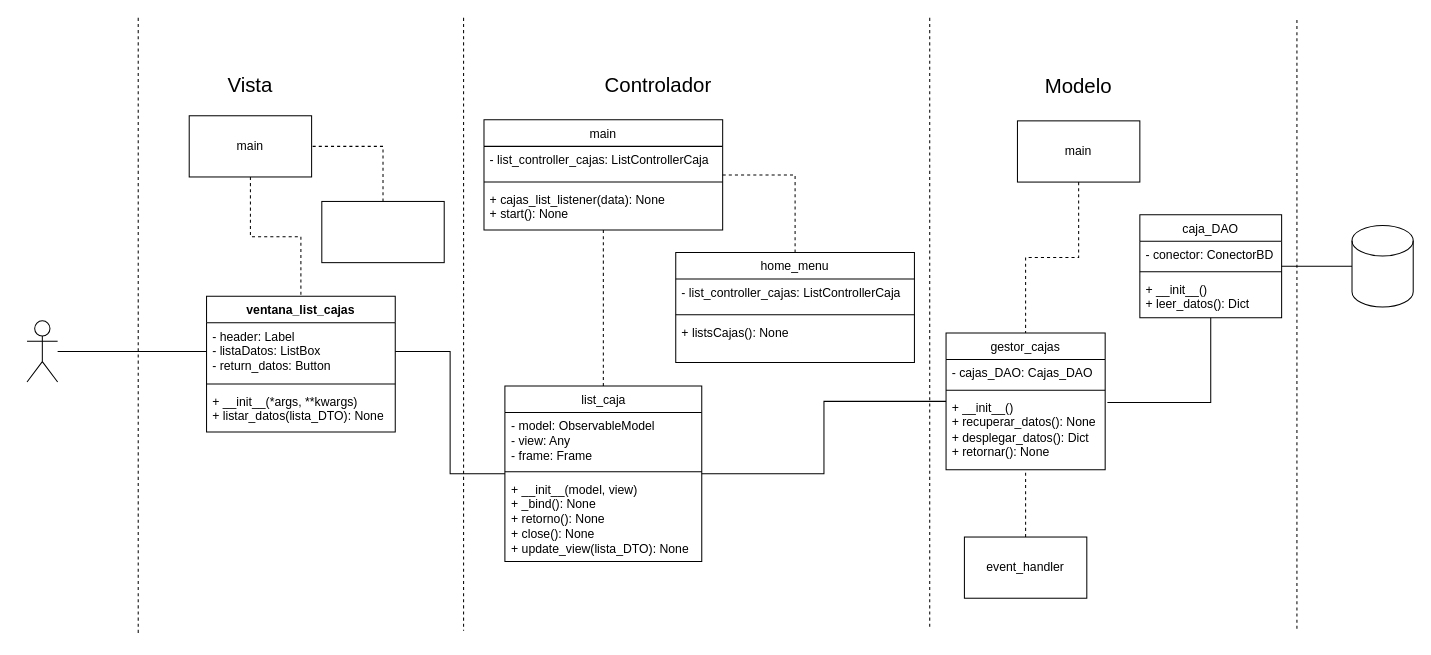
This 1431x655 diagram has some shape labels left out. The shapes that lost their labels are listed below. From the top down, each one's centre as x and y in pixels, then its label:
point (382, 231): ventana_home
point (1382, 265): caja
point (42, 351): Ejecutivo
